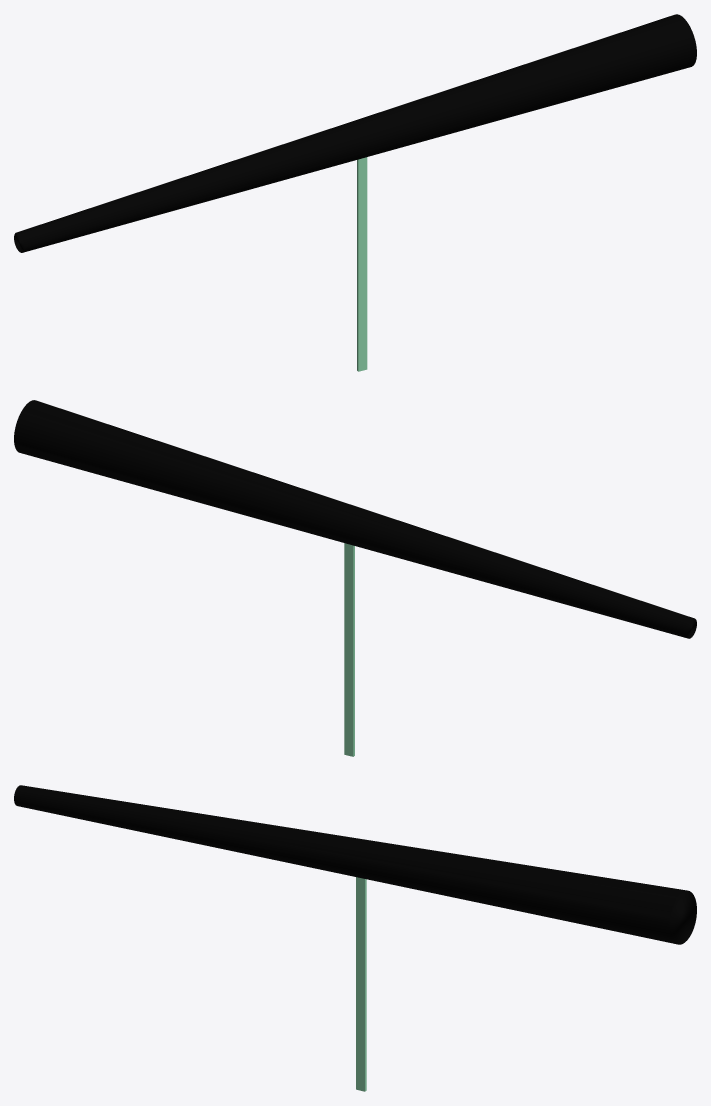
File: Palo.obj
3 views of the same model, one above another, from view 1: azimuth 30°, elevation 25°; view 2: azimuth 150°, elevation 25°; view 3: azimuth 330°, elevation 25° (orthographic).
Visible parts, largest first — view 1: mmGroup0, Box001; view 2: mmGroup0, Box001; view 3: mmGroup0, Box001.
Part boxes in pixels (<box>): mmGroup0: <box>14,14,696,252</box>; Box001: <box>357,157,367,371</box>; mmGroup0: <box>14,400,696,638</box>; Box001: <box>344,543,354,756</box>; mmGroup0: <box>14,785,696,944</box>; Box001: <box>356,877,366,1091</box>.
Size of the model in its own units: 11.66 by 4.61 by 0.8348.
2 materials, 1 textured.
